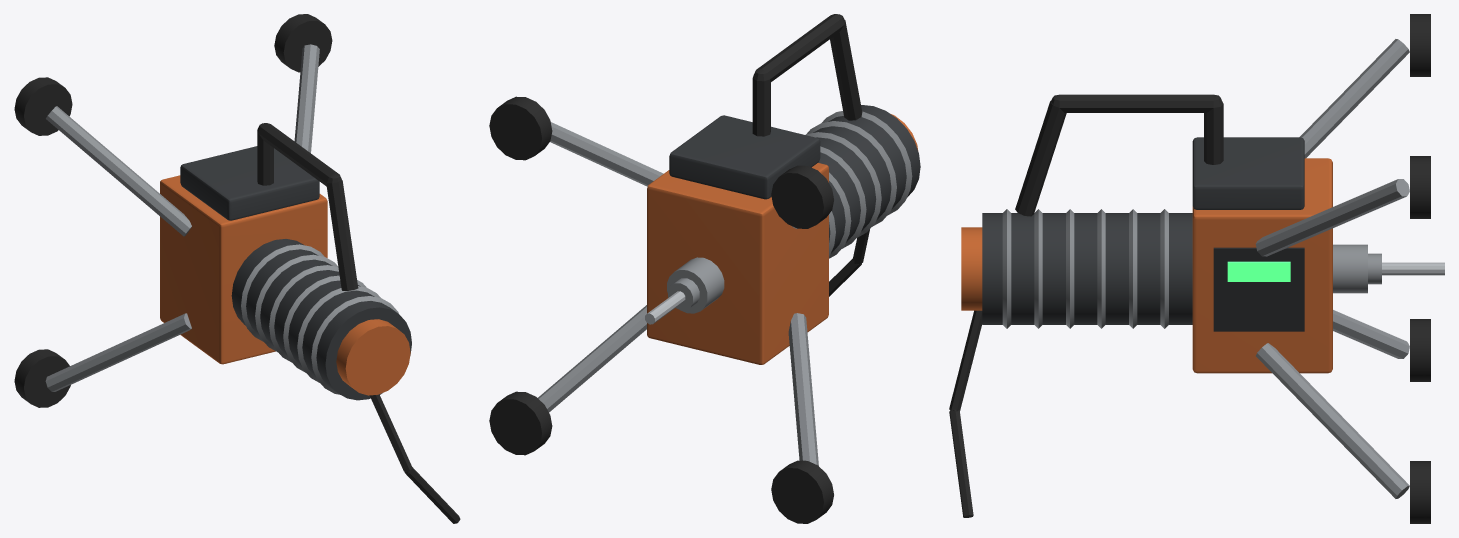
The model's file is prop_drill_device.glb.
The picture shows the model from 3 angles, left to right: view 1: azimuth 30°, elevation 25°; view 2: azimuth 150°, elevation 25°; view 3: azimuth 270°, elevation 25°; orthographic projection. The views are drawn at different scales.
Visible parts, largest first — view 1: Body; view 2: Body, Bit; view 3: Body, Bit.
Boxes of the visible parts, box(x1,y1,x2,y2) form: Body: box(14, 14, 460, 523); Body: box(489, 14, 920, 523); Bit: box(645, 278, 699, 324); Body: box(949, 14, 1430, 523); Bit: box(1368, 253, 1444, 284).
Size of the model in its own units: 0.57 by 0.6102 by 0.7077.
